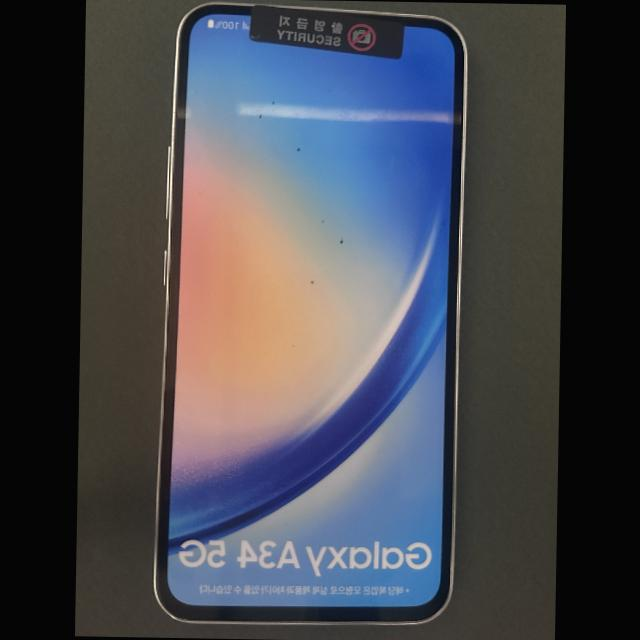phone: (155, 4, 464, 622)
sticker: (249, 4, 404, 59)
